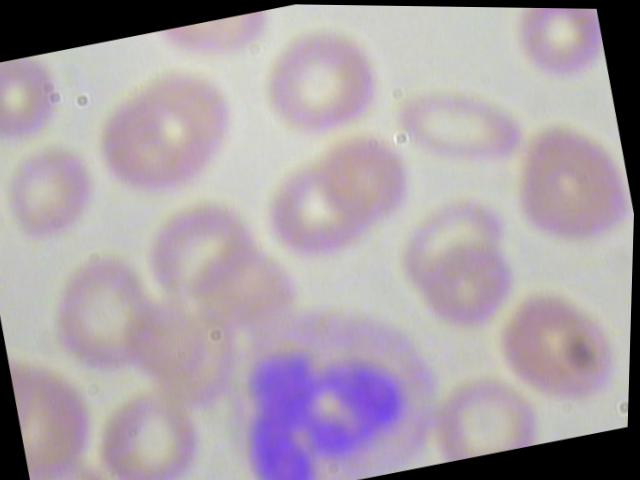Red Blood Cells: (485, 273, 633, 422), (492, 105, 637, 256), (127, 188, 280, 330), (379, 63, 535, 193), (247, 19, 392, 148), (86, 89, 220, 207), (300, 120, 422, 233), (88, 379, 216, 479), (0, 138, 114, 250), (423, 364, 547, 463), (504, 6, 611, 99), (0, 52, 73, 160)
